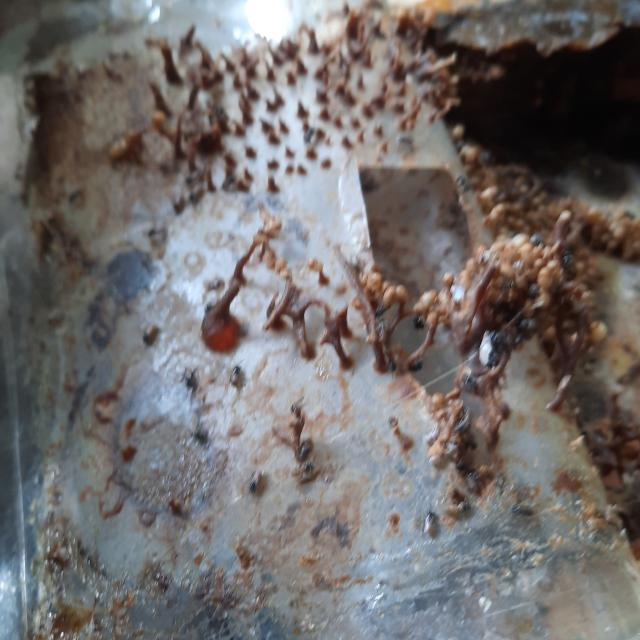honeybee: (432, 475, 518, 522), (229, 452, 276, 530), (139, 552, 188, 607), (214, 353, 261, 402), (160, 351, 201, 402), (393, 503, 442, 539)
